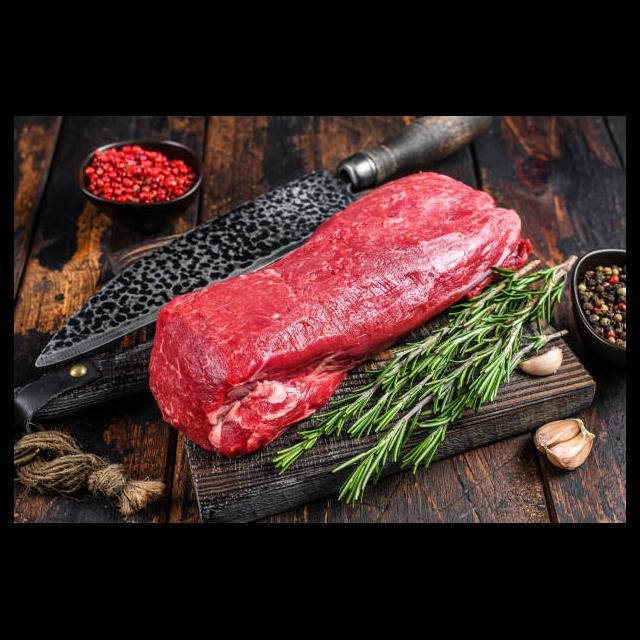beef: (148, 173, 523, 455)
